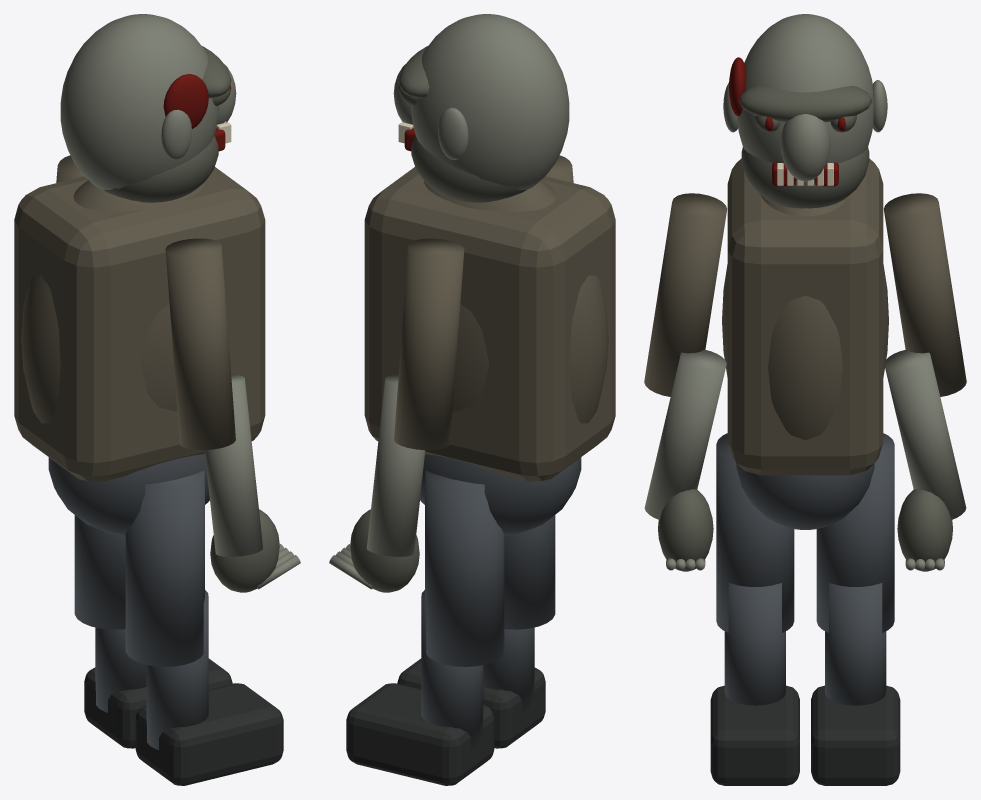
File: infected_aaa.glb
3 views of the same model, side by side, from view 1: azimuth 30°, elevation 25°; view 2: azimuth 150°, elevation 25°; view 3: azimuth 270°, elevation 25° (orthographic).
Visible parts, largest first — view 1: Jacket, Skull, UpperLeg_-1, UpperArm_-1, Boot.001, Torso, Forearm_-1, Pelvis, UpperLeg_1, LowerLeg_-1, Boot, Jaw (+5 smaller); view 2: Jacket, Skull, UpperLeg_1, UpperArm_1, Boot, Torso, Forearm_1, Pelvis, UpperLeg_-1, LowerLeg_1, Boot.001, Jaw (+4 smaller); view 3: Jacket, Skull, UpperArm_-1, UpperArm_1, Torso, UpperLeg_-1, UpperLeg_1, Boot.001, Boot, Forearm_-1, Forearm_1, LowerLeg_-1 (+9 smaller).
Boxes of the visible parts, box(x1,y1,x2,y2) form: Jacket: box(14, 167, 265, 481); Skull: box(60, 14, 218, 189); UpperLeg_-1: box(125, 470, 204, 666); UpperArm_-1: box(165, 238, 235, 450); Boot.001: box(135, 683, 283, 785); Torso: box(21, 180, 205, 423); Forearm_-1: box(204, 374, 263, 556); Pelvis: box(48, 454, 209, 535); UpperLeg_1: box(74, 515, 125, 629); LowerLeg_-1: box(146, 590, 208, 749); Boot: box(84, 658, 232, 748); Jaw: box(103, 136, 218, 202); Jacket: box(364, 167, 615, 481); Skull: box(411, 14, 569, 189); UpperLeg_1: box(425, 470, 504, 666); UpperArm_1: box(394, 238, 464, 450); Boot: box(346, 683, 494, 785); Torso: box(424, 180, 608, 423); Forearm_1: box(366, 374, 425, 556); Pelvis: box(420, 454, 581, 535); UpperLeg_-1: box(504, 515, 555, 629); LowerLeg_1: box(421, 590, 483, 749); Boot.001: box(397, 658, 545, 748); Jaw: box(411, 136, 526, 202); Jacket: box(727, 158, 883, 475); Skull: box(737, 14, 873, 163); UpperArm_-1: box(644, 193, 727, 396); UpperArm_1: box(883, 193, 966, 396); Torso: box(722, 194, 888, 440); UpperLeg_-1: box(716, 433, 794, 632); UpperLeg_1: box(816, 433, 894, 632); Boot.001: box(710, 685, 799, 785); Boot: box(811, 685, 900, 785); Forearm_-1: box(644, 349, 726, 519); Forearm_1: box(884, 349, 966, 519); LowerLeg_-1: box(724, 583, 785, 705).
Bounding box in the file's own units: 0.9 × 2.86 × 1.16.
